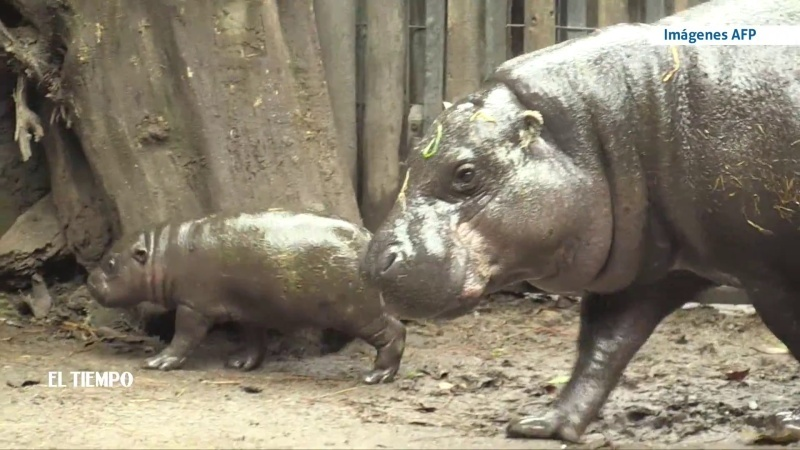hipopotamo: (362, 4, 800, 439), (80, 209, 416, 411)
